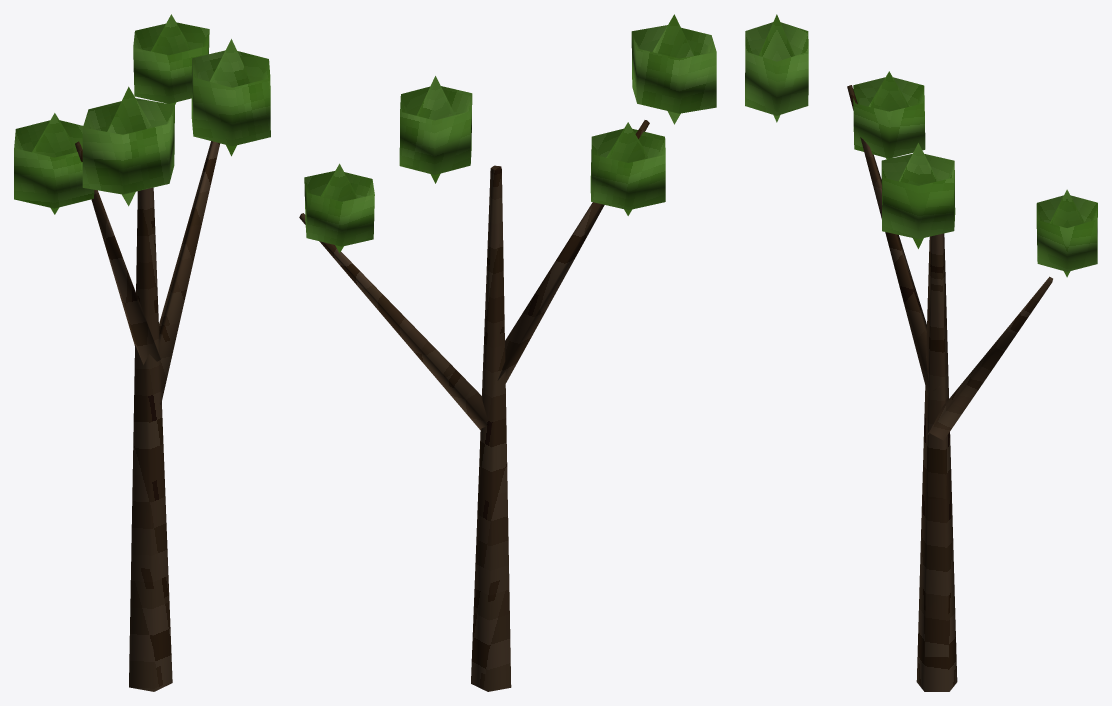
Rendered from tree02-lod2.glb.
3 views of the same model, side by side, from view 1: azimuth 30°, elevation 25°; view 2: azimuth 150°, elevation 25°; view 3: azimuth 270°, elevation 25° (orthographic). The views are drawn at different scales.
Visible parts, largest first — view 1: TZ_deciduous_broadleaf_Batch_01_LOD2, TZ_deciduous_broadleaf_Batch_00_LOD2; view 2: TZ_deciduous_broadleaf_Batch_01_LOD2, TZ_deciduous_broadleaf_Batch_00_LOD2; view 3: TZ_deciduous_broadleaf_Batch_01_LOD2, TZ_deciduous_broadleaf_Batch_00_LOD2.
Part boxes in pixels (box(x1,y1,x2,y2)): TZ_deciduous_broadleaf_Batch_01_LOD2: box(14, 14, 270, 214); TZ_deciduous_broadleaf_Batch_00_LOD2: box(75, 141, 220, 691); TZ_deciduous_broadleaf_Batch_01_LOD2: box(304, 14, 716, 253); TZ_deciduous_broadleaf_Batch_00_LOD2: box(299, 120, 649, 691); TZ_deciduous_broadleaf_Batch_01_LOD2: box(745, 14, 1097, 277); TZ_deciduous_broadleaf_Batch_00_LOD2: box(847, 85, 1052, 691).
Size of the model in its own units: 3.79 by 8.1 by 4.16.
Materials: 2 (2 with a texture image).
